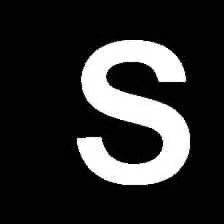LTR_S: (69, 32, 200, 193)
